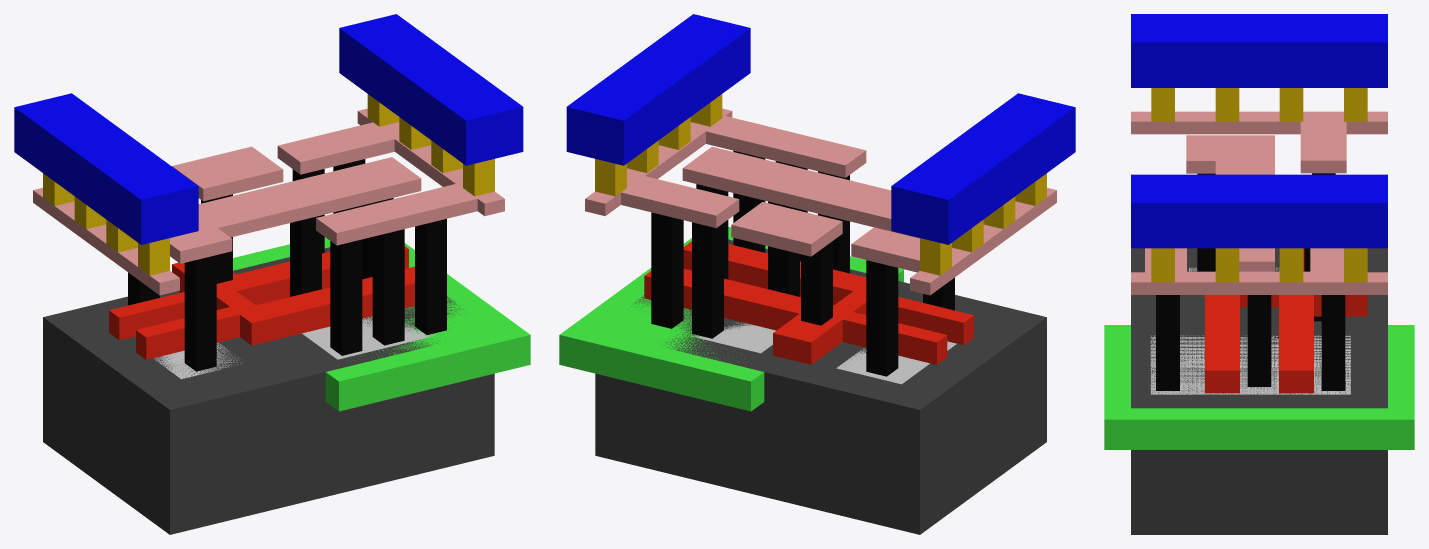
File: sky130_fd_sc_hd__clkinvlp_2.obj
3 renders of one model, left to right at view 1: azimuth 30°, elevation 25°; view 2: azimuth 150°, elevation 25°; view 3: azimuth 270°, elevation 25°, orthographic.
Visible parts, largest first — view 1: subs, metal1, li, licon, nwell, poly, mcon, tap, diff; view 2: subs, metal1, li, licon, poly, nwell, mcon, tap, diff; view 3: metal1, subs, li, nwell, poly, licon, mcon, tap.
Part boxes in pixels (left/top/right/bottom): subs: left=43, top=247, right=494, bottom=534; metal1: left=14, top=14, right=523, bottom=244; li: left=33, top=108, right=504, bottom=295; licon: left=128, top=159, right=446, bottom=371; nwell: left=233, top=237, right=530, bottom=411; poly: left=109, top=246, right=414, bottom=359; mcon: left=43, top=94, right=494, bottom=275; tap: left=302, top=316, right=437, bottom=359; diff: left=154, top=342, right=240, bottom=379; subs: left=595, top=239, right=1046, bottom=534; metal1: left=566, top=14, right=1075, bottom=244; li: left=585, top=108, right=1056, bottom=295; licon: left=651, top=150, right=954, bottom=376; poly: left=644, top=241, right=973, bottom=364; nwell: left=559, top=226, right=903, bottom=411; mcon: left=595, top=94, right=1046, bottom=275; tap: left=691, top=322, right=775, bottom=353; diff: left=836, top=341, right=956, bottom=384; metal1: left=1131, top=14, right=1387, bottom=248; subs: left=1131, top=248, right=1387, bottom=534; li: left=1131, top=111, right=1387, bottom=294; nwell: left=1104, top=325, right=1414, bottom=449; poly: left=1205, top=248, right=1367, bottom=393; licon: left=1156, top=173, right=1345, bottom=390; mcon: left=1151, top=88, right=1367, bottom=282; tap: left=1150, top=335, right=1350, bottom=394.
Size of the model in its own units: 3.2 by 2.74 by 2.22.
